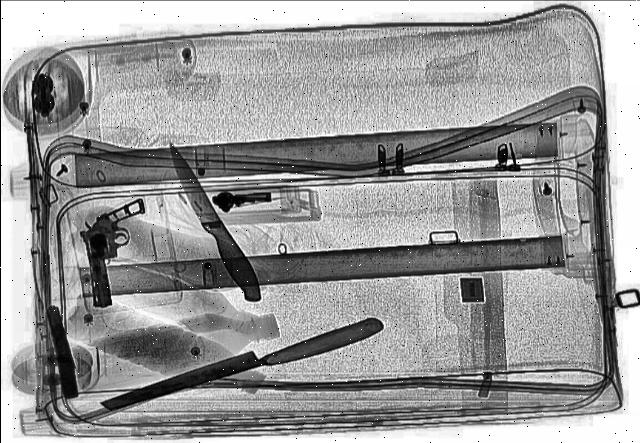Gun: (74, 196, 156, 306), (41, 302, 80, 398)
Knife: (95, 310, 388, 418), (158, 140, 268, 304)
